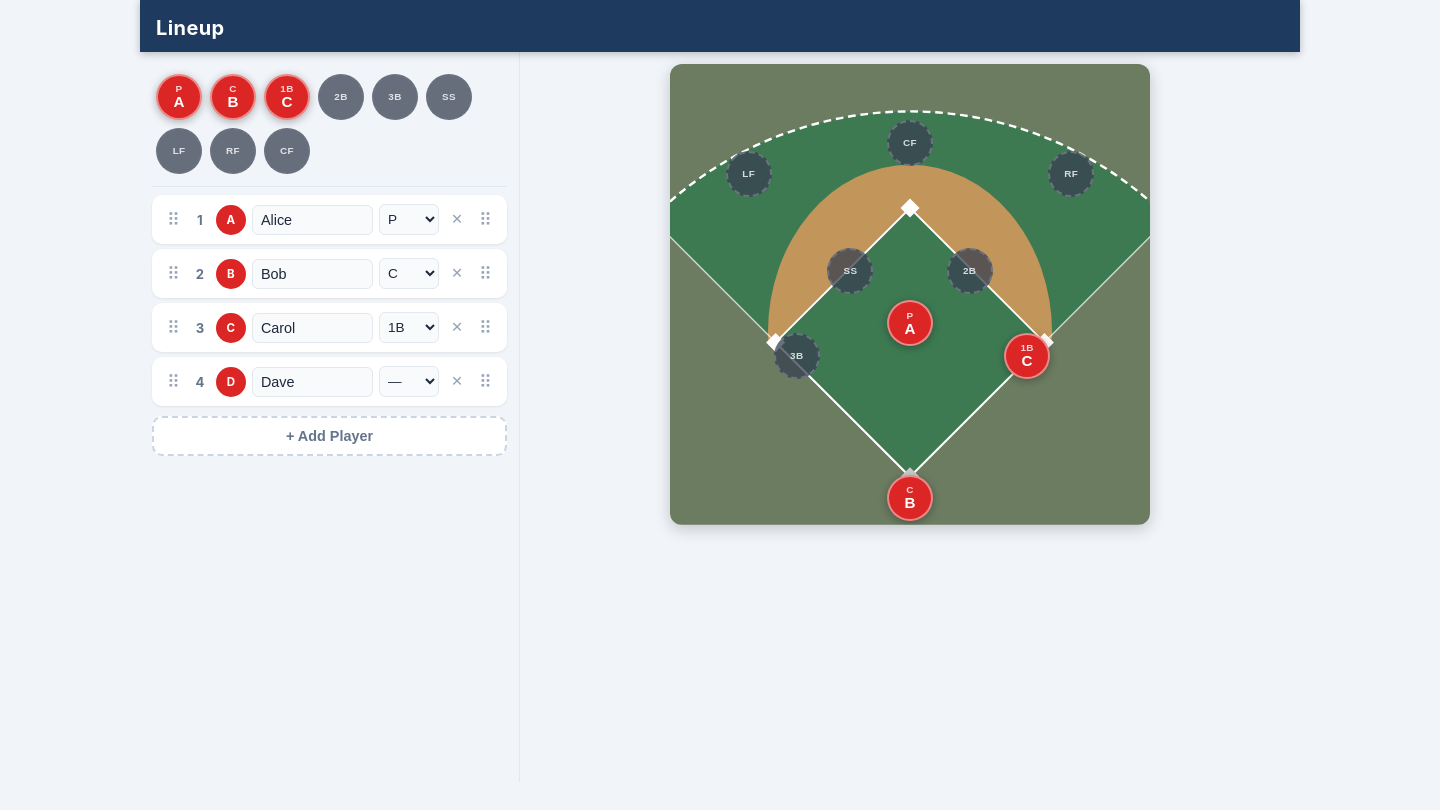
Test case: remove confirm flow › cancels remove when No is clicked
Click the 1st button titled "Remove".
click(457, 220)  # box [445,208,469,231]
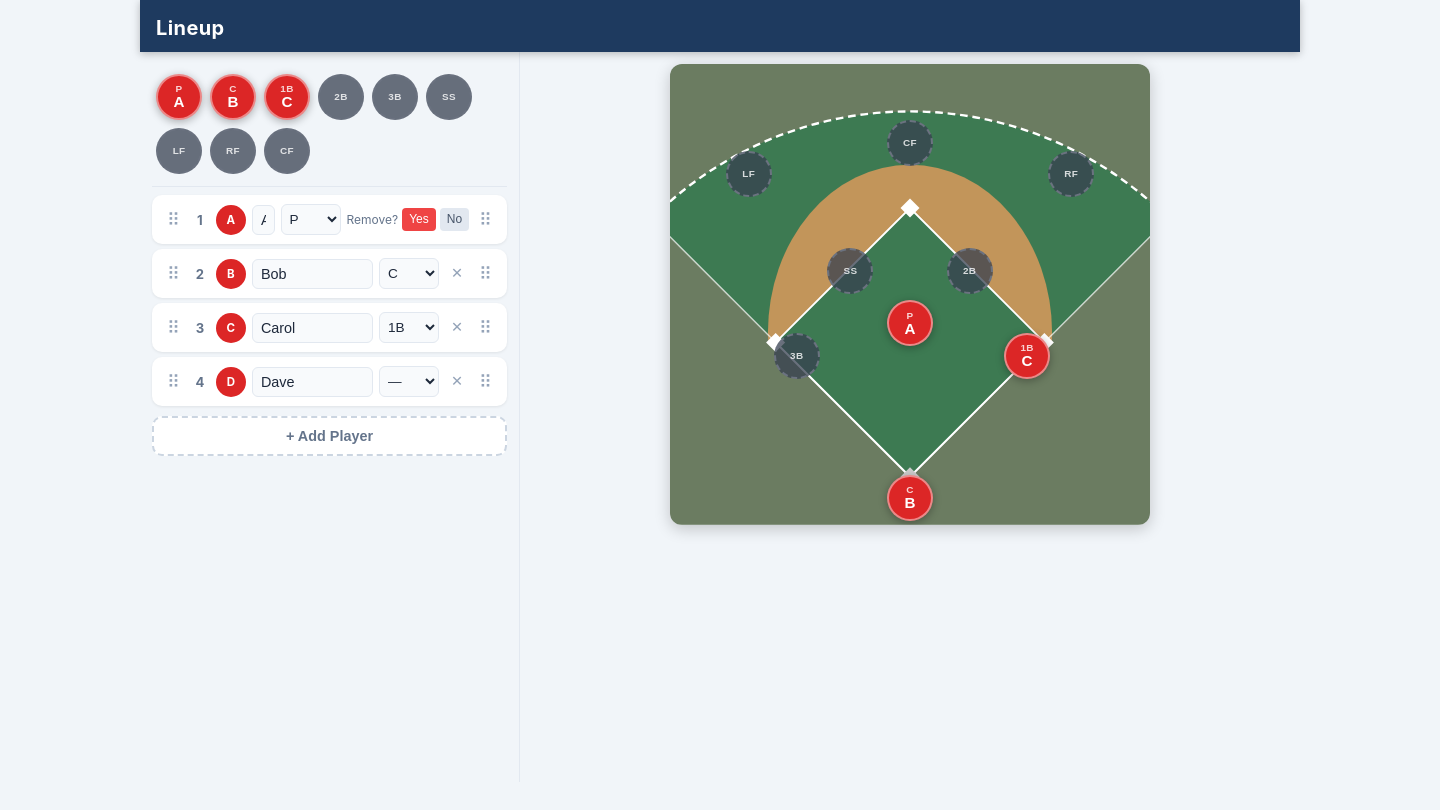
Click the button "No".
click(454, 220)  # box [440,208,469,231]
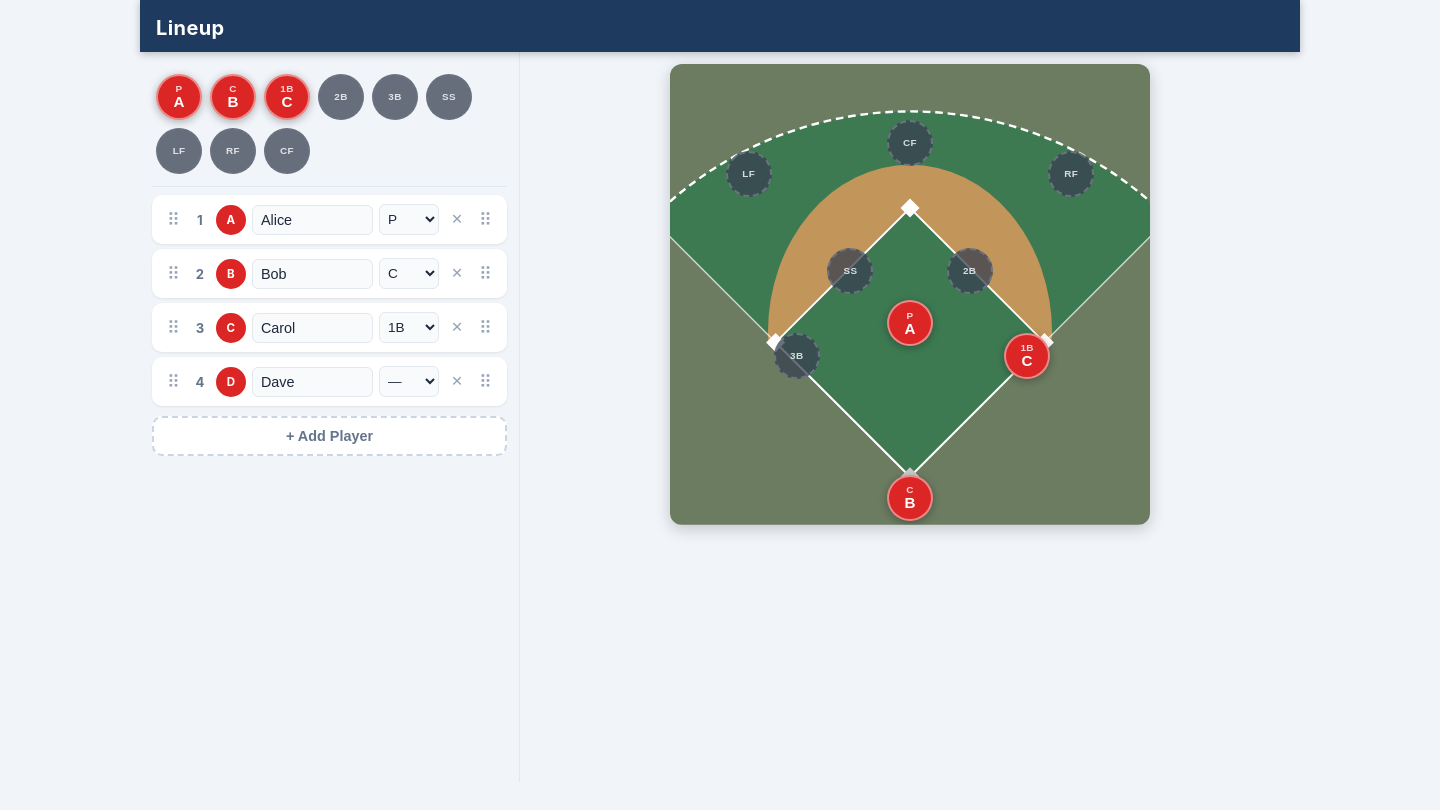
Check: the text "Remove?" is gone
Check: the button "Yes" is gone
